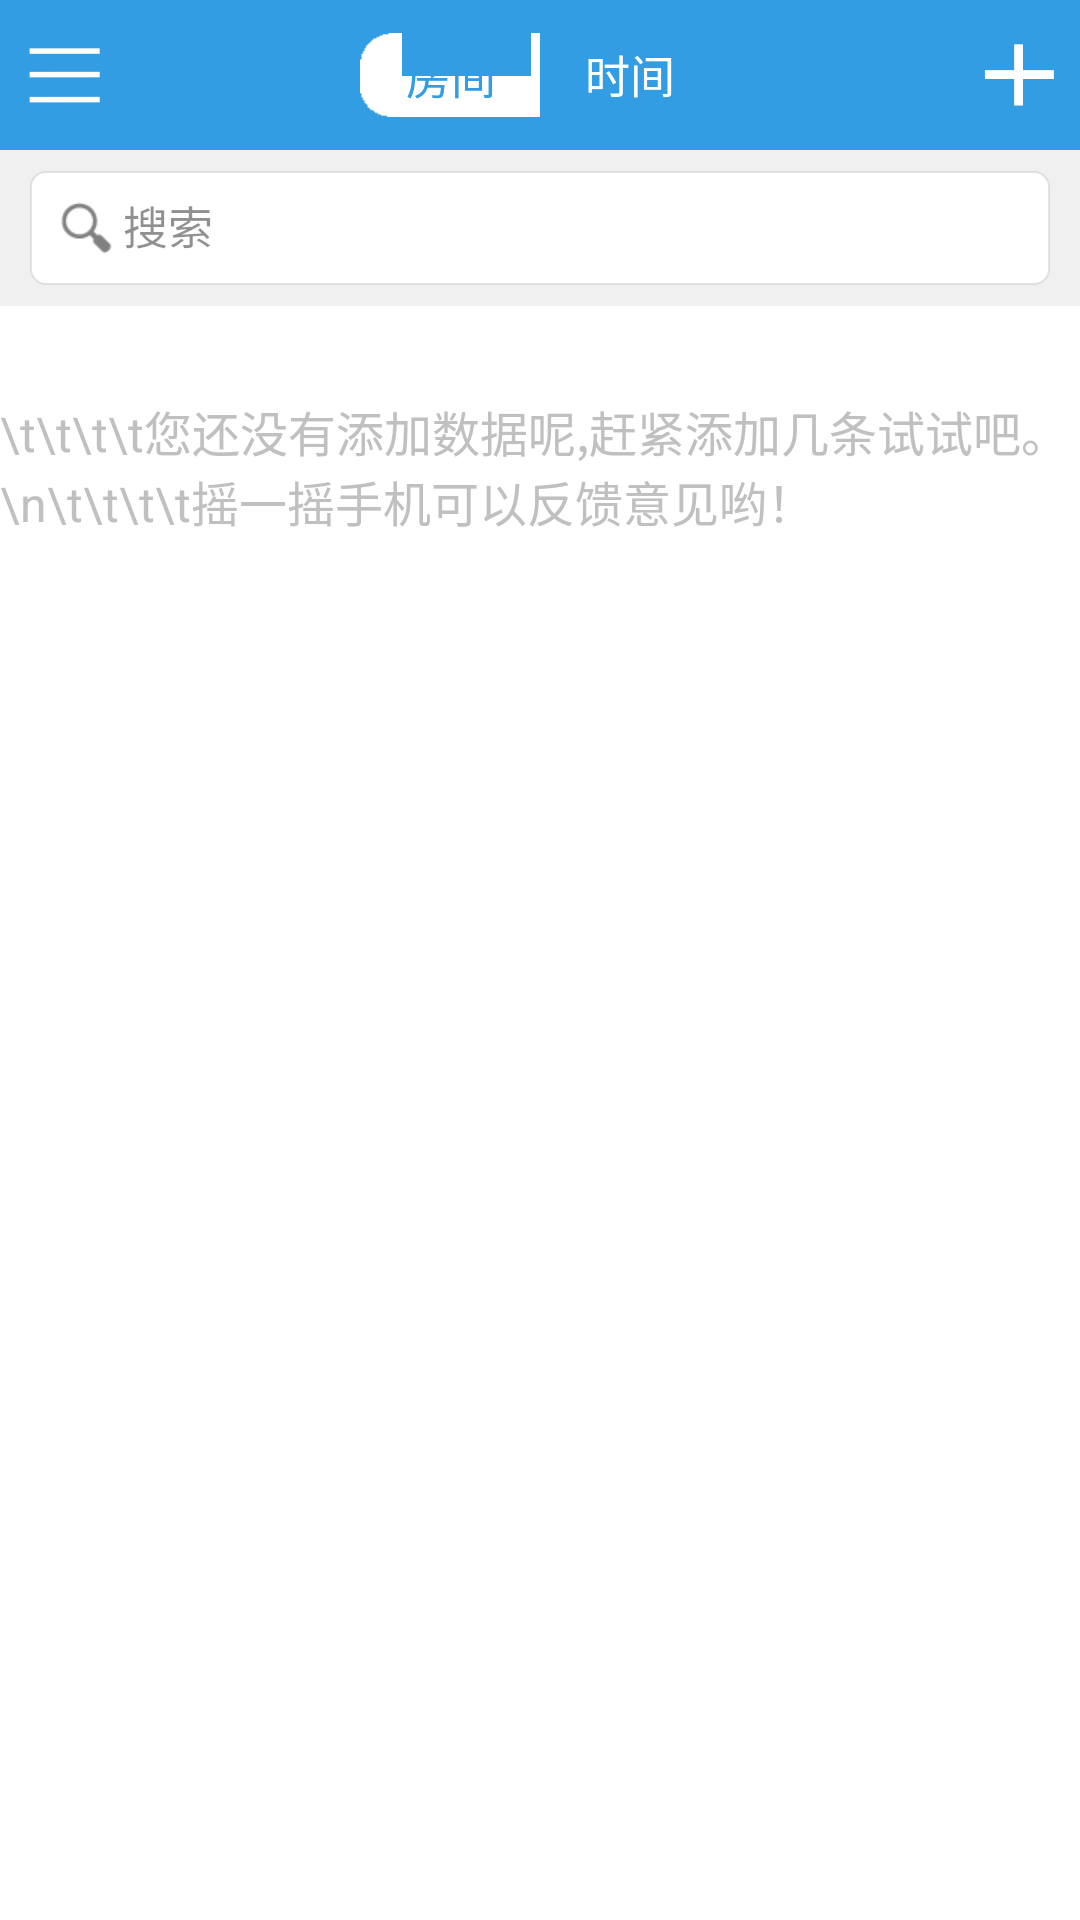

Named icons in this screenshot (1080*1920) and their centers, (x=x, y=y):
add: (x=1019, y=75)
menu: (x=64, y=75)
